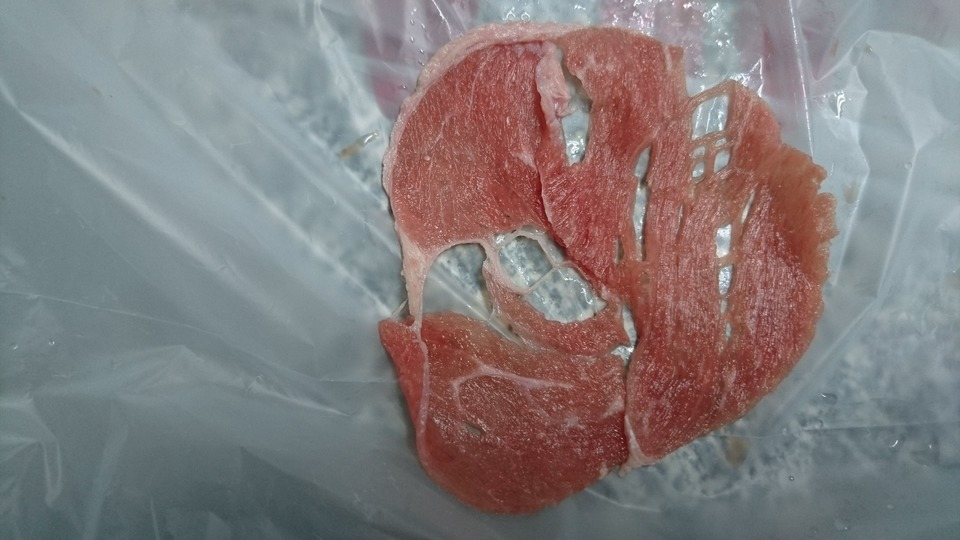restructured meat: (366, 45, 831, 517)
